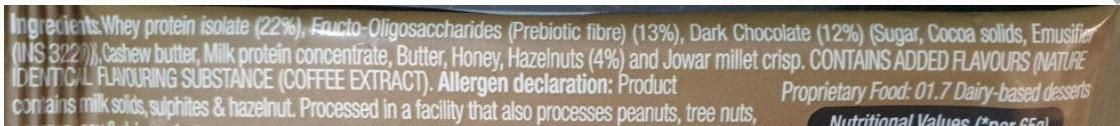ingredients: (2, 7, 1120, 126)
